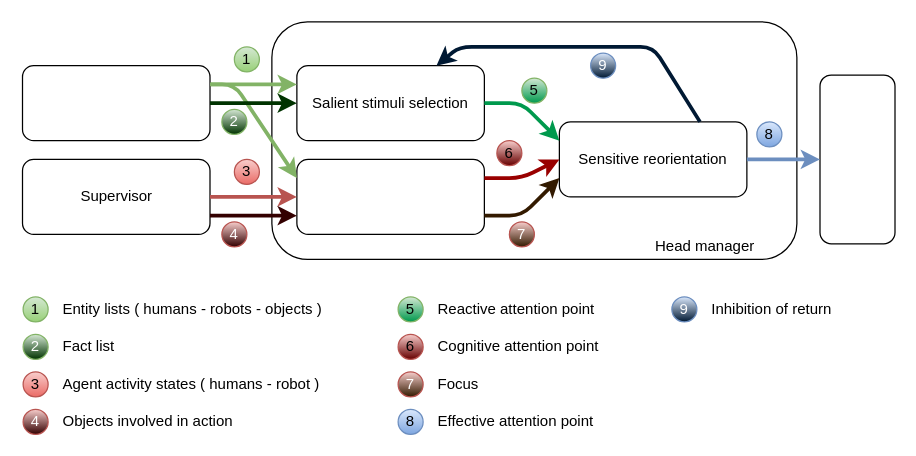
This 916x456 diagram has some shape labels left out. Here are the shapes that lost their labels. From the top down, the centre of each, then its label:
At (115,102): "Toaster".
At (857,159): "Pr2motion".
At (390,196): "Cognitive orientation".
